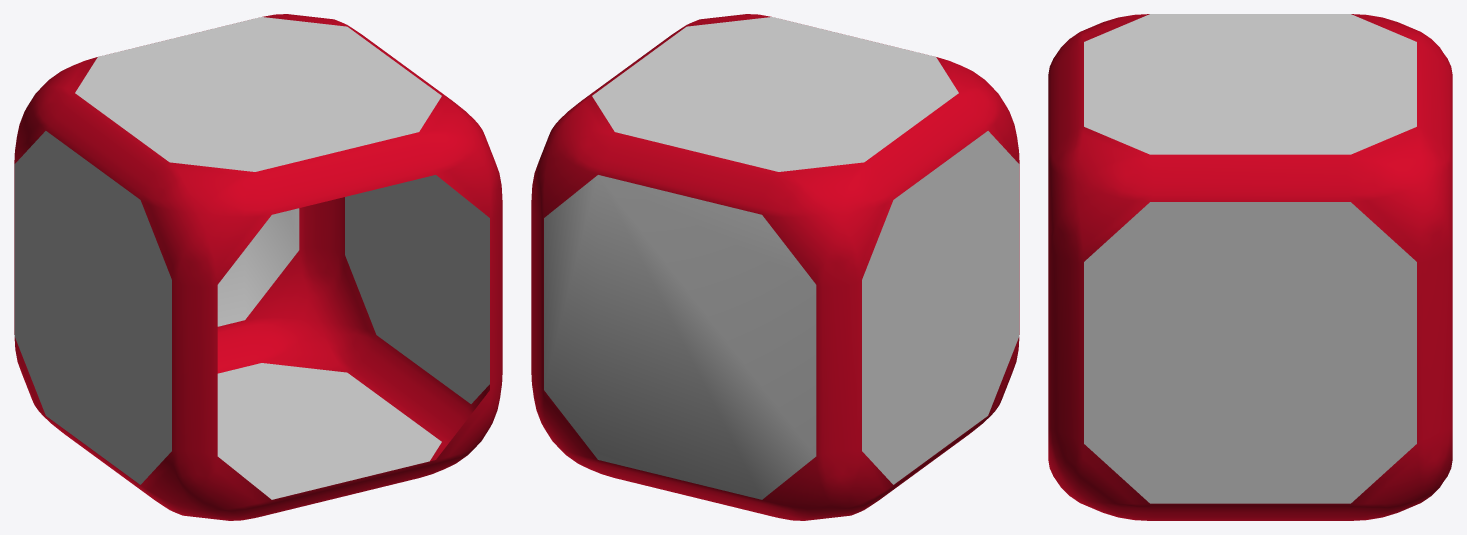
The model's file is Dice.fbx.
3 renders of one model, left to right at view 1: azimuth 30°, elevation 25°; view 2: azimuth 150°, elevation 25°; view 3: azimuth 270°, elevation 25°, orthographic. The views are drawn at different scales.
Visible parts, largest first — view 1: Zar; view 2: Zar; view 3: Zar.
Part boxes in pixels (x1,y1,x2,y2): Zar: (14,14,502,520); Zar: (531,14,1019,520); Zar: (1048,14,1452,520).
Size of the model in its own units: 0.24 by 0.24 by 0.24.
